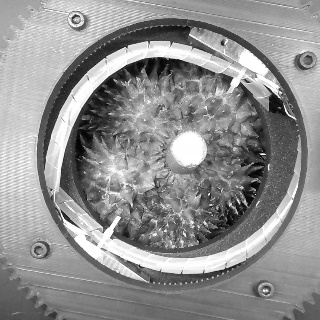base: (155, 127, 203, 182)
end: (169, 130, 207, 168)
